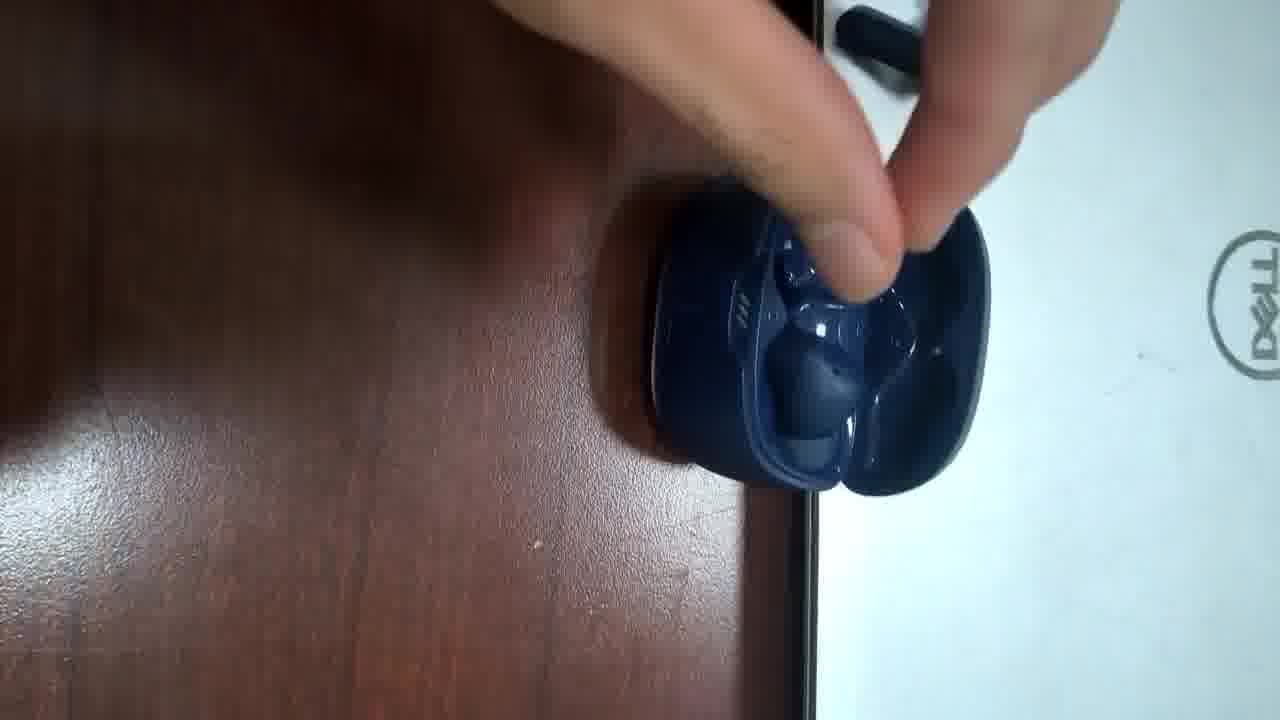Earbud: (766, 325, 862, 437)
